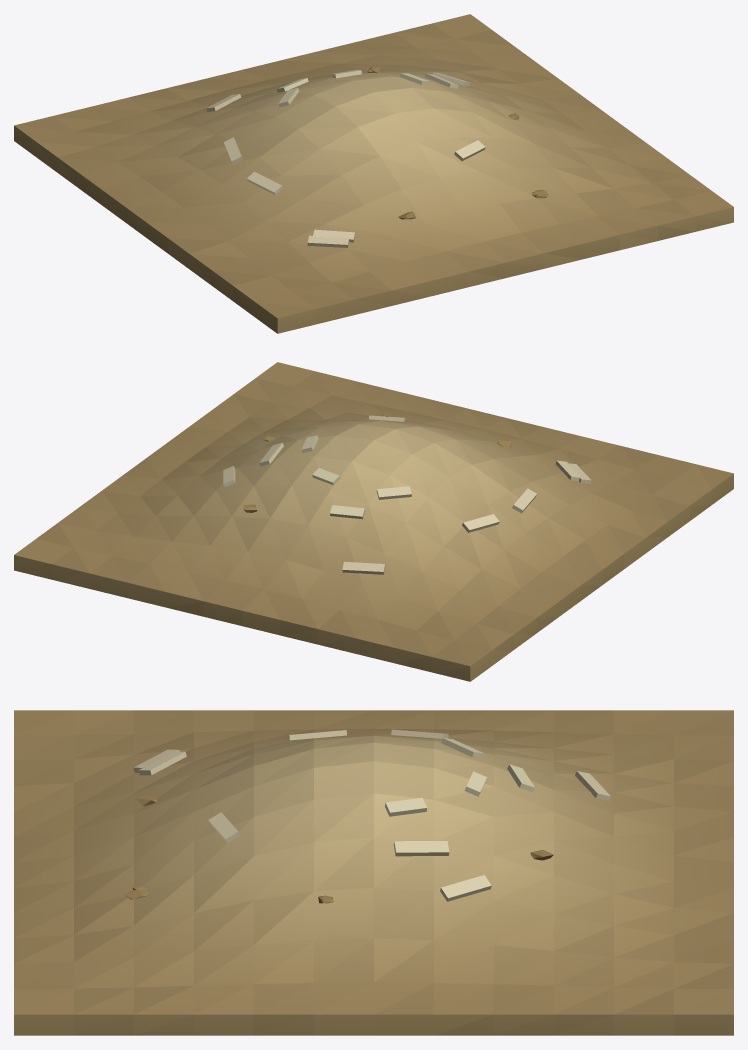
The model's file is dune-tile.glb.
3 renders of one model, top to bottom at view 1: azimuth 30°, elevation 25°; view 2: azimuth 150°, elevation 25°; view 3: azimuth 270°, elevation 25°, orthographic. The views are drawn at different scales.
Parts seen in each view (by area): view 1: dune_tile; view 2: dune_tile; view 3: dune_tile.
Boxes of the visible parts, x1,y1,x2,y2 form: dune_tile: [14, 14, 733, 333]; dune_tile: [14, 362, 733, 681]; dune_tile: [14, 710, 733, 1035].
Bounding box in the file's own units: 4 × 0.75 × 4.
